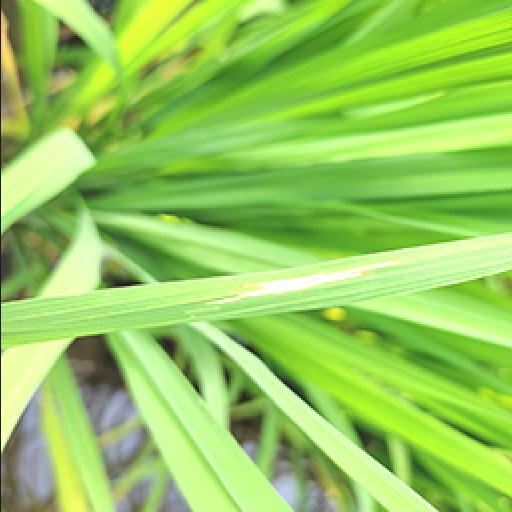Bacterial Leaf Blight: (210, 244, 410, 322)
